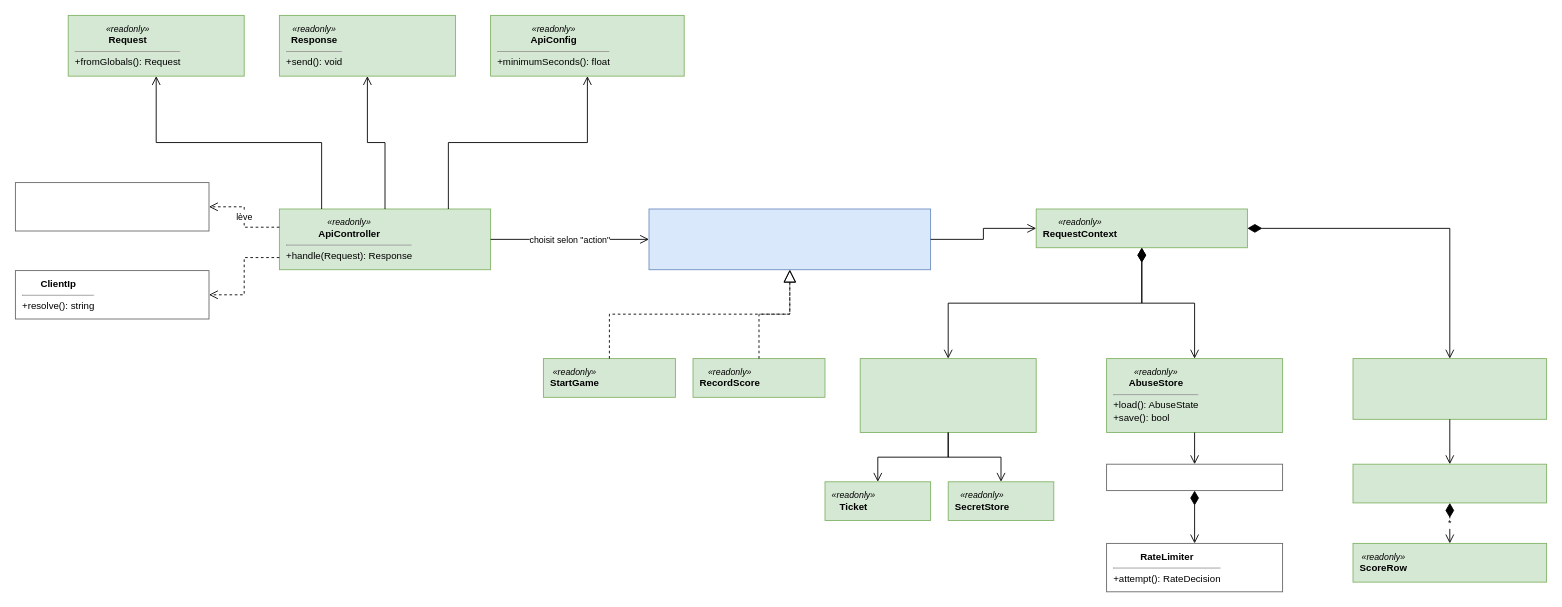
This 1562x607 diagram has some shape labels left out. The shapes that lost their labels are listed below. From the top down, each one's centre as x and y in pixels, then its label:
the point at 112,206: ApiError +toResponse(): Response
the point at 789,239: «interface» ApiAction +execute(input, RequestContext): Response
the point at 947,395: «readonly» TicketSigner +issue(): string +verify(): Ticket
the point at 1449,388: «readonly» ScoreFile +load(): AiScoreboard
the point at 1194,477: AbuseState
the point at 1449,483: «readonly» AiScoreboard
